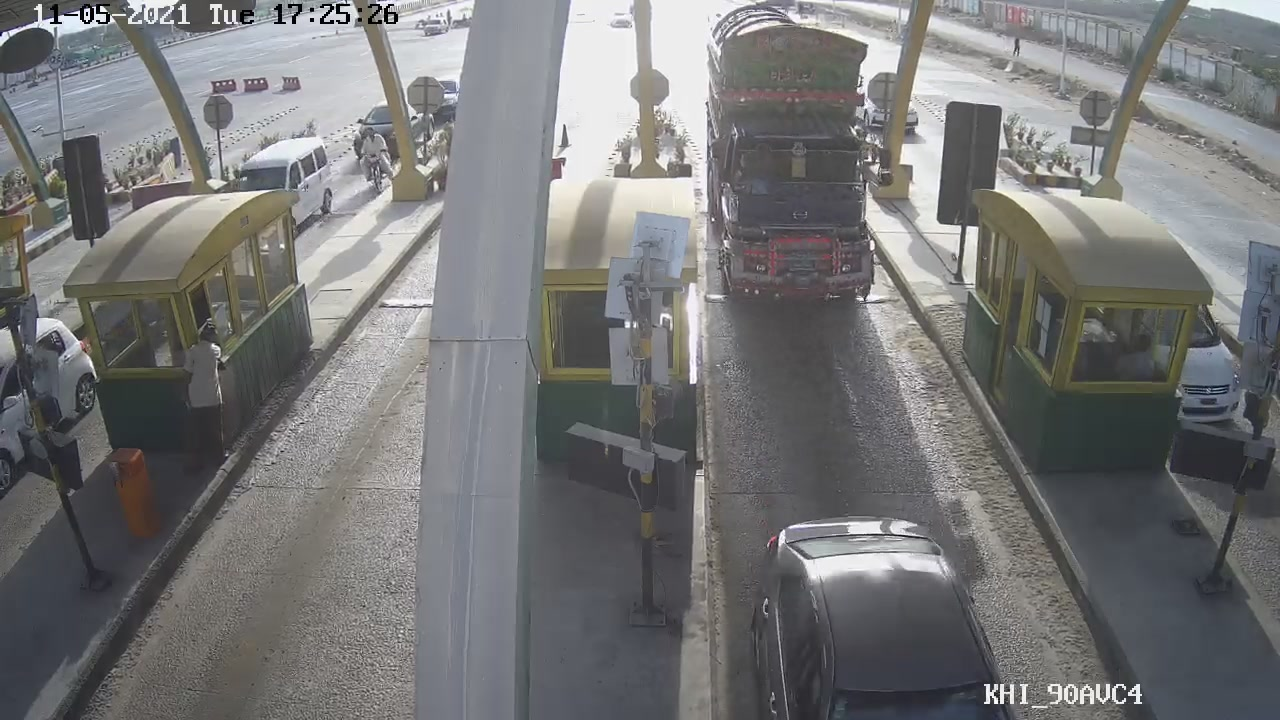F5: (689, 42, 896, 298)
